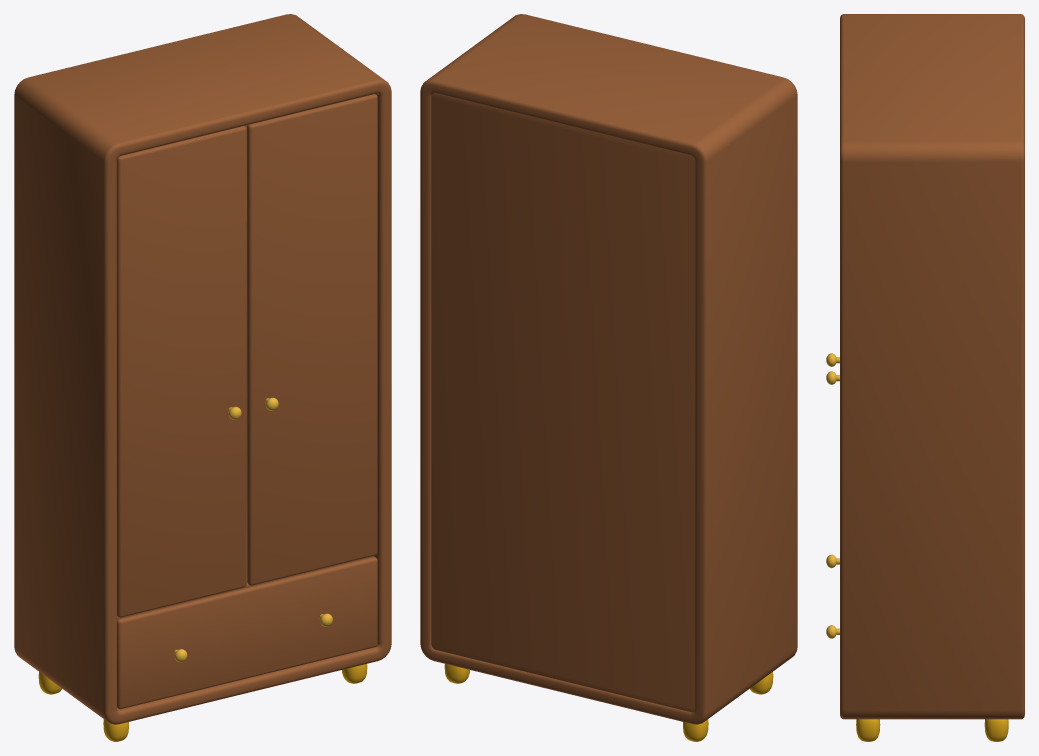
The model's file is armario_2portas_gaveta_madeira.glb.
3 views of the same model, side by side, from view 1: azimuth 30°, elevation 25°; view 2: azimuth 150°, elevation 25°; view 3: azimuth 270°, elevation 25° (orthographic).
Parts seen in each view (by area): view 1: armario_2portas_gaveta_madeira, porta_2, porta_1, gaveta_1; view 2: armario_2portas_gaveta_madeira; view 3: armario_2portas_gaveta_madeira.
Part boxes in pixels (bbox=[...]): armario_2portas_gaveta_madeira: bbox=[14, 14, 391, 741]; porta_2: bbox=[247, 94, 377, 585]; porta_1: bbox=[117, 126, 246, 617]; gaveta_1: bbox=[117, 556, 377, 709]; armario_2portas_gaveta_madeira: bbox=[420, 14, 797, 741]; armario_2portas_gaveta_madeira: bbox=[840, 14, 1024, 741].
Size of the model in its own units: 0.82 by 1.66 by 0.4946.
1 material, 1 textured.
